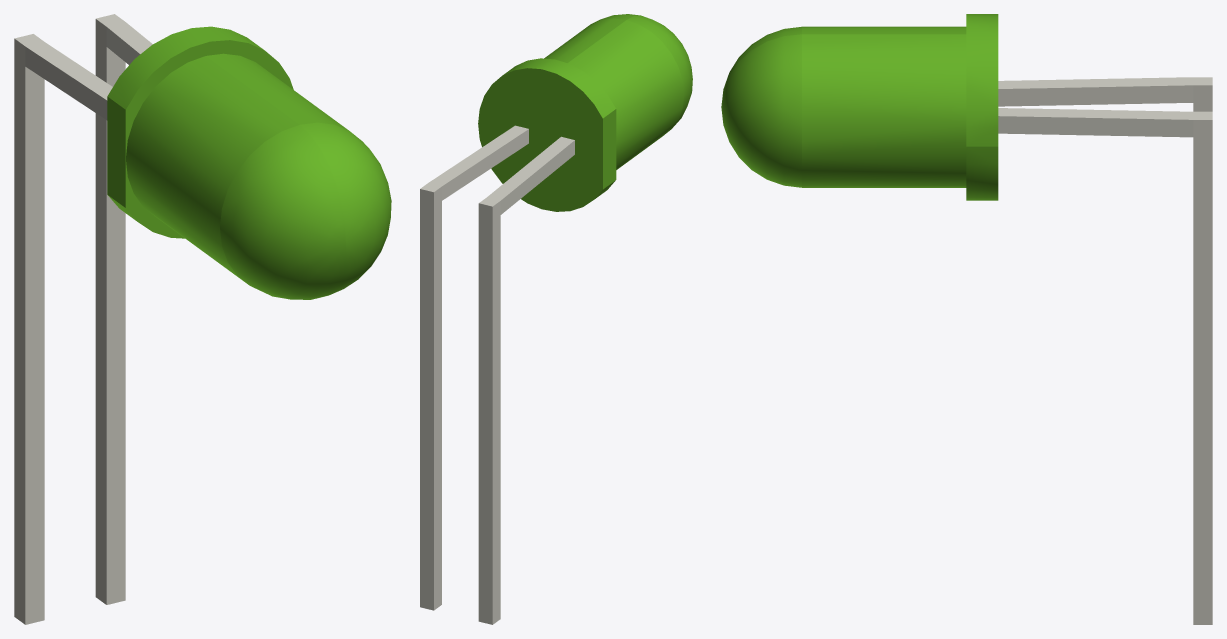
File: kc-led_d5.0mm_horizontal_o6.35mm_z15.0mm.glb
3 views of the same model, side by side, from view 1: azimuth 30°, elevation 25°; view 2: azimuth 150°, elevation 25°; view 3: azimuth 270°, elevation 25° (orthographic). The views are drawn at different scales.
Visible parts, largest first — view 1: 0.16666666666666666_0.4166666666666667_0_0, 0.6666666666666666_0.6666666666666666_0.5833333333333334_0.8; view 2: 0.16666666666666666_0.4166666666666667_0_0, 0.6666666666666666_0.6666666666666666_0.5833333333333334_0.8; view 3: 0.16666666666666666_0.4166666666666667_0_0, 0.6666666666666666_0.6666666666666666_0.5833333333333334_0.8.
Part boxes in pixels (<box>): 0.16666666666666666_0.4166666666666667_0_0: <box>107,26,391,299</box>; 0.6666666666666666_0.6666666666666666_0.5833333333333334_0.8: <box>14,14,152,624</box>; 0.16666666666666666_0.4166666666666667_0_0: <box>478,14,692,211</box>; 0.6666666666666666_0.6666666666666666_0.5833333333333334_0.8: <box>420,125,574,624</box>; 0.16666666666666666_0.4166666666666667_0_0: <box>721,14,998,200</box>; 0.6666666666666666_0.6666666666666666_0.5833333333333334_0.8: <box>998,77,1212,624</box>.
Bounding box in the file's own units: 0.54 × 1.99 × 1.53.
